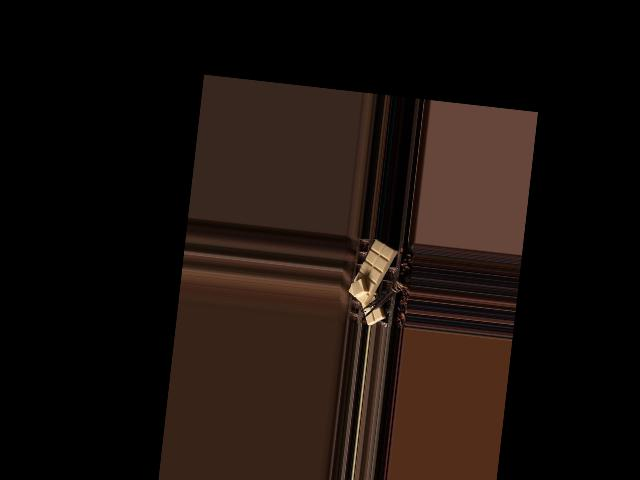chocolate: (347, 237, 397, 309)
